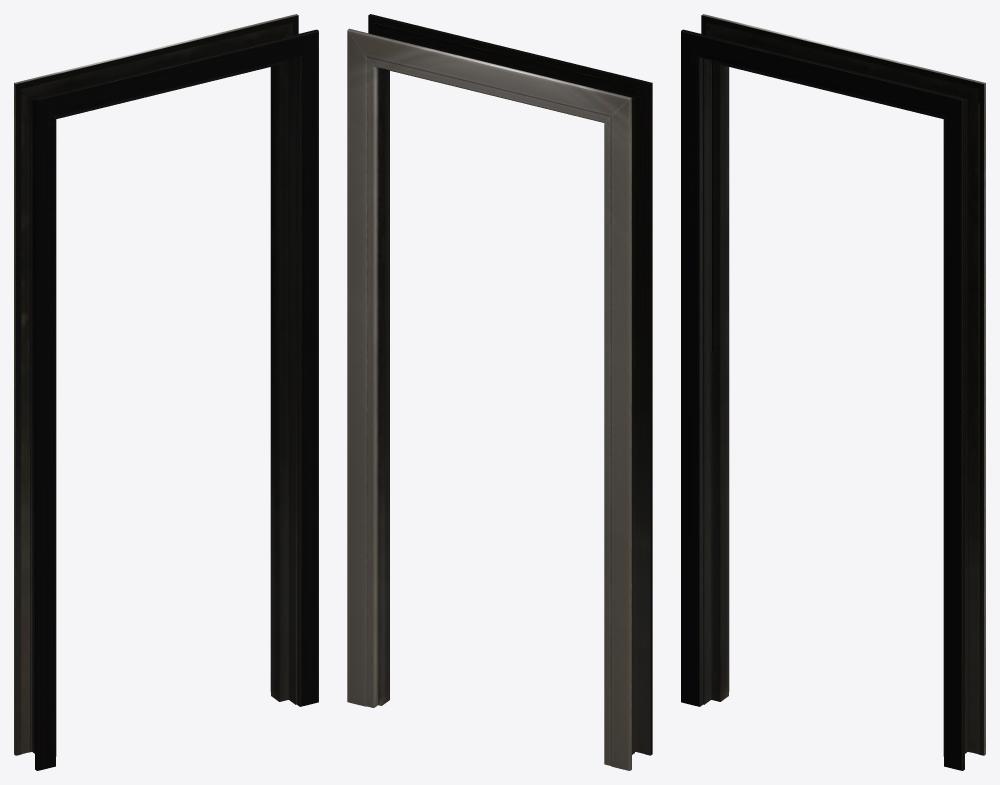
The model's file is 2014_WSJ_JJ_05.FBX.
The picture shows the model from 3 angles, left to right: view 1: azimuth 30°, elevation 25°; view 2: azimuth 150°, elevation 25°; view 3: azimuth 330°, elevation 25°; orthographic projection.
Parts seen in each view (by area): view 1: 2014_WSJ_JJ_05; view 2: 2014_WSJ_JJ_05; view 3: 2014_WSJ_JJ_05.
Part boxes in pixels (<box>): 2014_WSJ_JJ_05: <box>14,14,318,770</box>; 2014_WSJ_JJ_05: <box>347,14,652,770</box>; 2014_WSJ_JJ_05: <box>681,14,985,770</box>.
Bounding box in the file's own units: 0.9055 × 2.06 × 0.1288.
